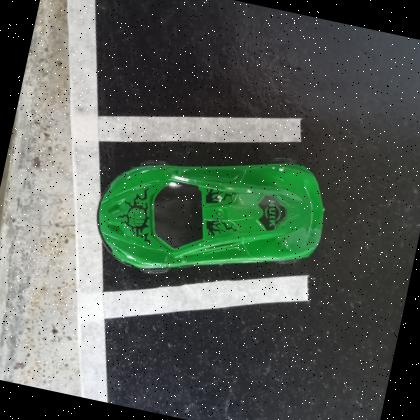Car: (96, 163, 325, 272)
